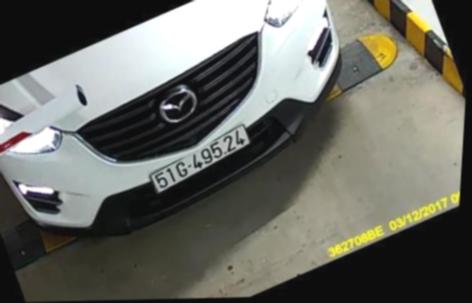License_Plate: (142, 128, 258, 196)
